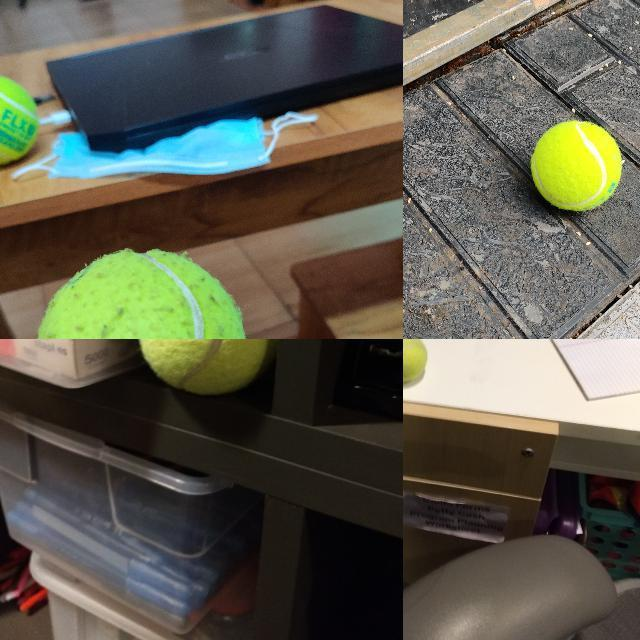tennis-ball: (35, 250, 249, 338), (530, 120, 623, 213), (134, 339, 277, 396), (0, 74, 39, 164), (403, 339, 428, 382)
